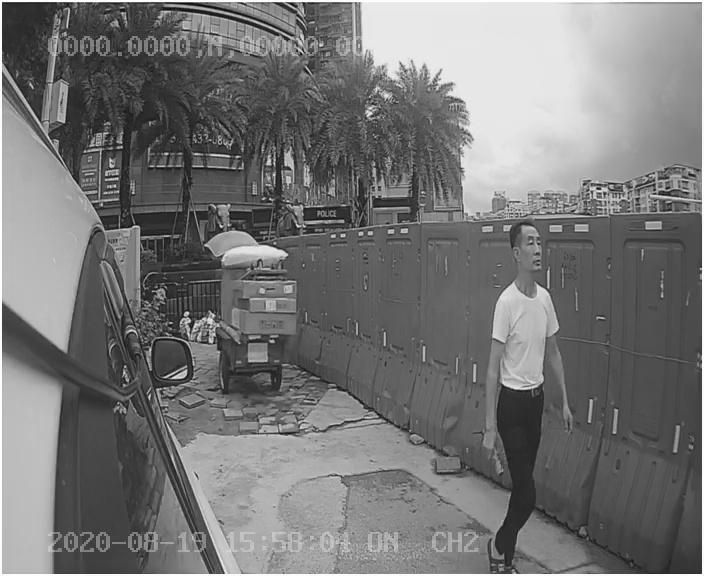person: (463, 216, 602, 544)
